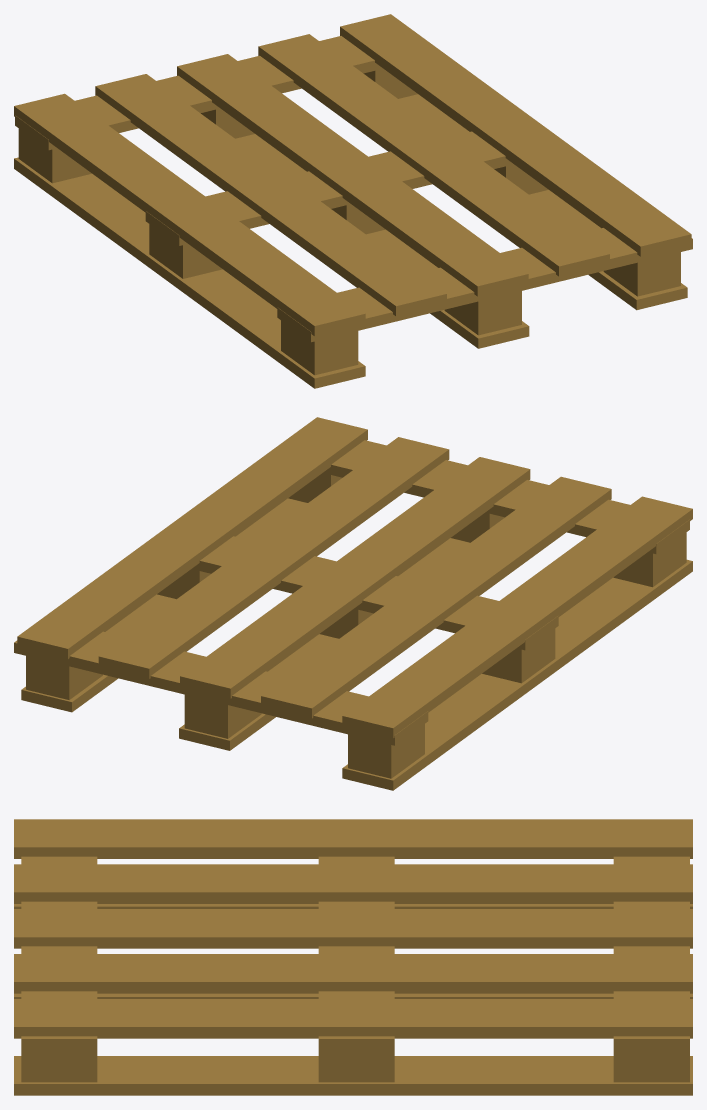
Rendered from Pallet.fbx.
The picture shows the model from 3 angles, top to bottom: view 1: azimuth 30°, elevation 25°; view 2: azimuth 150°, elevation 25°; view 3: azimuth 270°, elevation 25°; orthographic projection. The views are drawn at different scales.
Visible parts, largest first — view 1: Pallet; view 2: Pallet; view 3: Pallet.
Part boxes in pixels (left/top/right/bottom): Pallet: left=14, top=14, right=692, bottom=388; Pallet: left=14, top=417, right=692, bottom=790; Pallet: left=14, top=819, right=692, bottom=1095.
Size of the model in its own units: 89.25 by 14 by 122.
